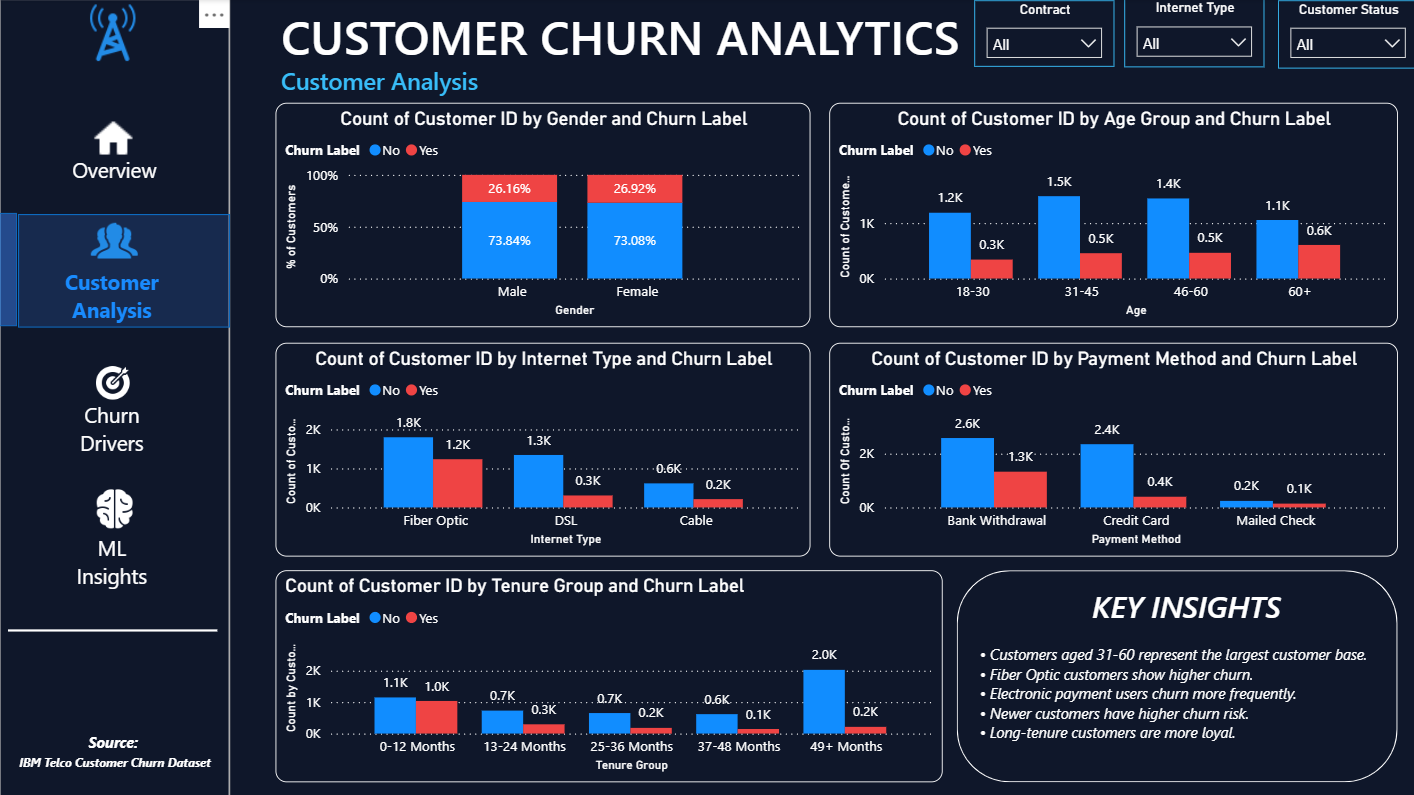

The page's visual inventory and layout, read from the dashboard file:
{"tool":"powerbi","page":{"name":"Customer Analysis","canvas":[1280,720],"ordinal":1},"visuals":[{"type":"hundredPercentStackedColumnChart","fields":{"Category":["telco.Gender"],"Series":["telco.Churn Label"],"Y":["CountNonNull(telco.Customer ID)"]},"box":[250,93.8,482.5,202.5],"z":0},{"type":"clusteredColumnChart","fields":{"Category":["telco.Internet Type"],"Series":["telco.Churn Label"],"Y":["CountNonNull(telco.Customer ID)"]},"box":[250,310,482.5,192.5],"z":1000},{"type":"clusteredColumnChart","fields":{"Category":["telco.Payment Method"],"Series":["telco.Churn Label"],"Y":["CountNonNull(telco.Customer ID)"]},"box":[750,310,512.5,192.5],"z":2000},{"type":"clusteredColumnChart","fields":{"Category":["telco.Age Group"],"Series":["telco.Churn Label"],"Y":["CountNonNull(telco.Customer ID)"]},"box":[750,93.8,512.5,202.5],"z":3000},{"type":"shape","box":[1.2,0,207.9,720.2],"z":4000},{"type":"textbox","box":[51.2,237.5,103.8,306.2],"z":5000},{"type":"image","box":[82.5,320,42.5,52.5],"z":6000},{"type":"image","box":[81.2,437.5,47.5,45],"z":7000},{"type":"image","box":[70,0,67.5,61.2],"z":8000},{"type":"textbox","box":[0,655.4,207.9,50.1],"z":9000},{"type":"shape","box":[8.8,538.8,188.8,61.2],"z":11000},{"type":"image","box":[73.8,102.5,61.2,47.5],"z":12000},{"type":"shape","box":[17.5,193.8,191.2,102.5],"z":13000},{"type":"shape","box":[1.2,192.5,16.2,102.5],"z":14000},{"type":"textbox","box":[52.5,136.2,103.8,35],"z":15000},{"type":"image","box":[73.8,192.5,63.8,52.5],"z":16000},{"type":"clusteredColumnChart","fields":{"Category":["telco.Tenure Group"],"Series":["telco.Churn Label"],"Y":["CountNonNull(telco.Customer ID)"]},"box":[250,515,601.2,191.2],"z":17000},{"type":"textbox","box":[250,0,672.5,62.5],"z":18000},{"type":"textbox","box":[250,53.8,202.5,40],"z":19000},{"type":"slicer","title":"Contract","fields":{"Values":["telco.Contract"]},"box":[880,1.2,126.2,60],"z":20000},{"type":"slicer","title":"Internet Type","fields":{"Values":["telco.Internet Type"]},"box":[1015,0,126.2,61.2],"z":21000},{"type":"slicer","title":"Customer Status","fields":{"Values":["telco.Customer Status"]},"box":[1153.8,1.2,126.2,61.2],"z":22000},{"type":"shape","box":[865,515,397.5,191.2],"z":23000},{"type":"textbox","box":[880,523.8,382.5,152.5],"z":24000}]}

Visuals, with their boxes on the page's 1280x720 design canvas (x1, y1, x2, y2). These are canvas units, not pixel positions in the 1414x795 screenshot, which may show the page scaled, cropped or inside an application window:
hundredPercentStackedColumnChart - telco.Gender x telco.Churn Label: [250, 94, 732, 296]
clusteredColumnChart - telco.Internet Type x telco.Churn Label: [250, 310, 732, 502]
clusteredColumnChart - telco.Payment Method x telco.Churn Label: [750, 310, 1262, 502]
clusteredColumnChart - telco.Age Group x telco.Churn Label: [750, 94, 1262, 296]
shape: [1, 0, 209, 720]
textbox: [51, 238, 155, 544]
image: [82, 320, 125, 372]
image: [81, 438, 129, 482]
image: [70, 0, 138, 61]
textbox: [0, 655, 208, 706]
shape: [9, 539, 198, 600]
image: [74, 102, 135, 150]
shape: [18, 194, 209, 296]
shape: [1, 192, 17, 295]
textbox: [52, 136, 156, 171]
image: [74, 192, 138, 245]
clusteredColumnChart - telco.Tenure Group x telco.Churn Label: [250, 515, 851, 706]
textbox: [250, 0, 922, 62]
textbox: [250, 54, 452, 94]
"Contract" slicer: [880, 1, 1006, 61]
"Internet Type" slicer: [1015, 0, 1141, 61]
"Customer Status" slicer: [1154, 1, 1280, 62]
shape: [865, 515, 1262, 706]
textbox: [880, 524, 1262, 676]
